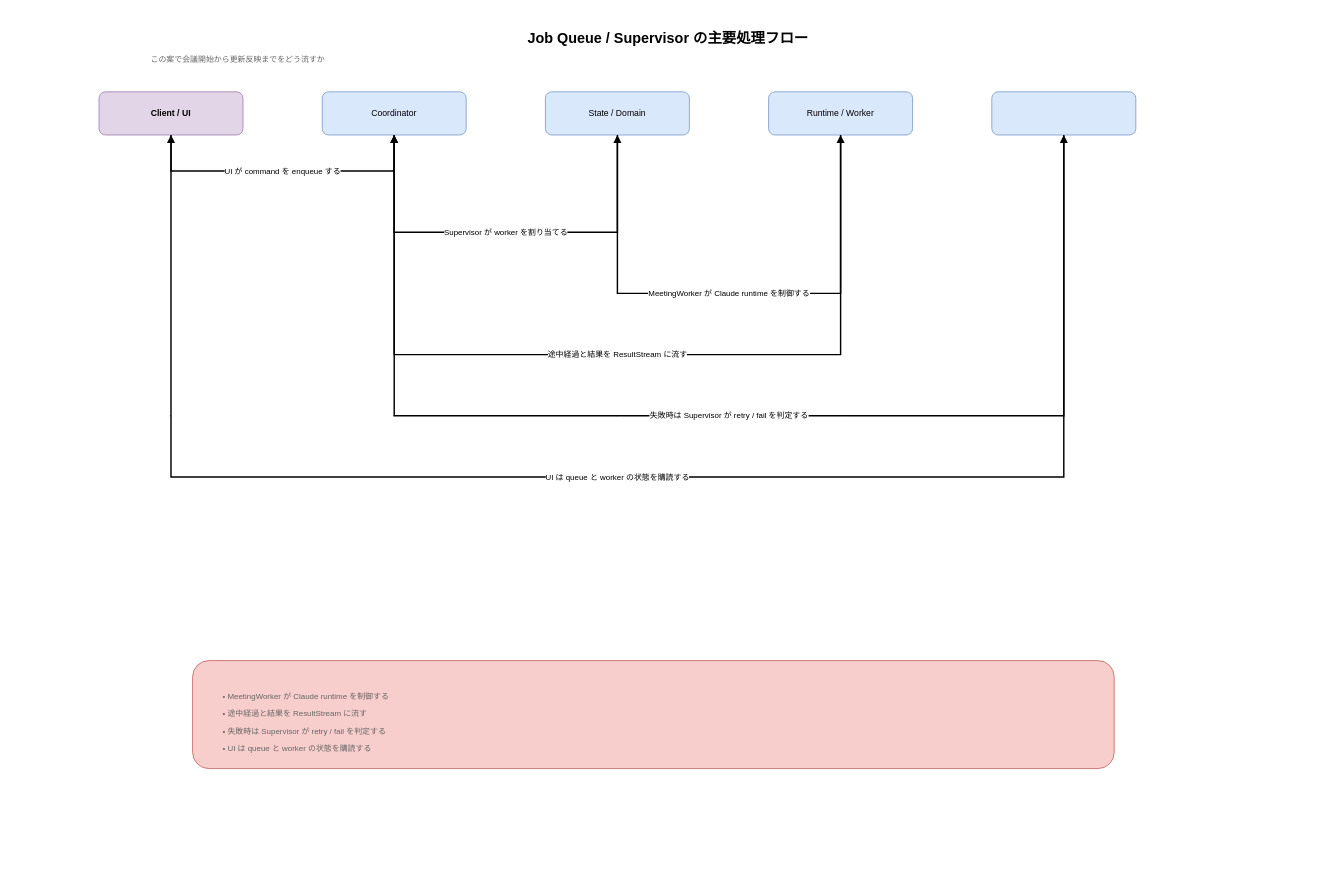
This 1320x888 diagram has some shape labels left out. The box of each missing label's shape, as (x1, y1, x2, y2) in pixels:
Updates / Output: (991, 91, 1136, 135)
この案のフロー上の注意点: (192, 660, 1114, 769)
